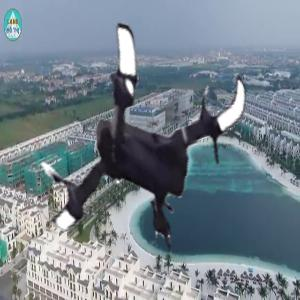drone: (6, 21, 270, 285)
